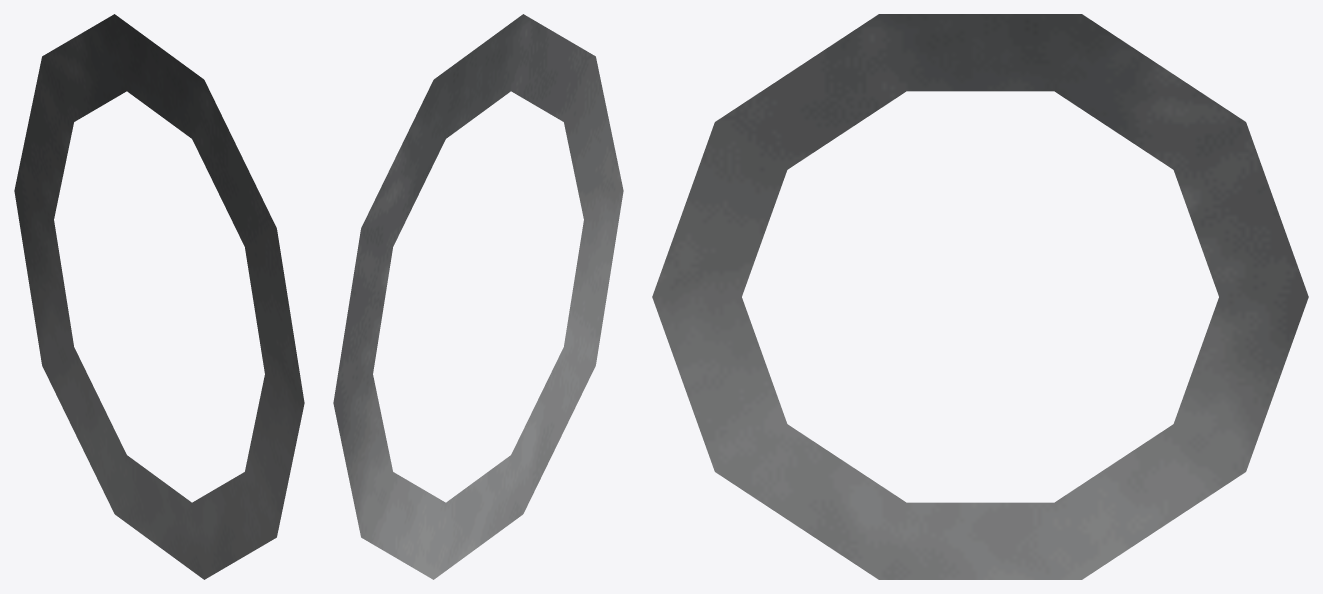
File: Nose_Ring.glb
3 views of the same model, side by side, from view 1: azimuth 30°, elevation 25°; view 2: azimuth 150°, elevation 25°; view 3: azimuth 270°, elevation 25° (orthographic). The views are drawn at different scales.
Parts seen in each view (by area): view 1: Nose Ring; view 2: Nose Ring; view 3: Nose Ring.
Boxes of the visible parts, left/top/right/bottom form: Nose Ring: left=14, top=14, right=304, bottom=579; Nose Ring: left=333, top=14, right=623, bottom=579; Nose Ring: left=652, top=14, right=1308, bottom=579.
Bounding box in the file's own units: 5.48e-08 × 0.1627 × 0.171.
Materials: 1 (1 with a texture image).
